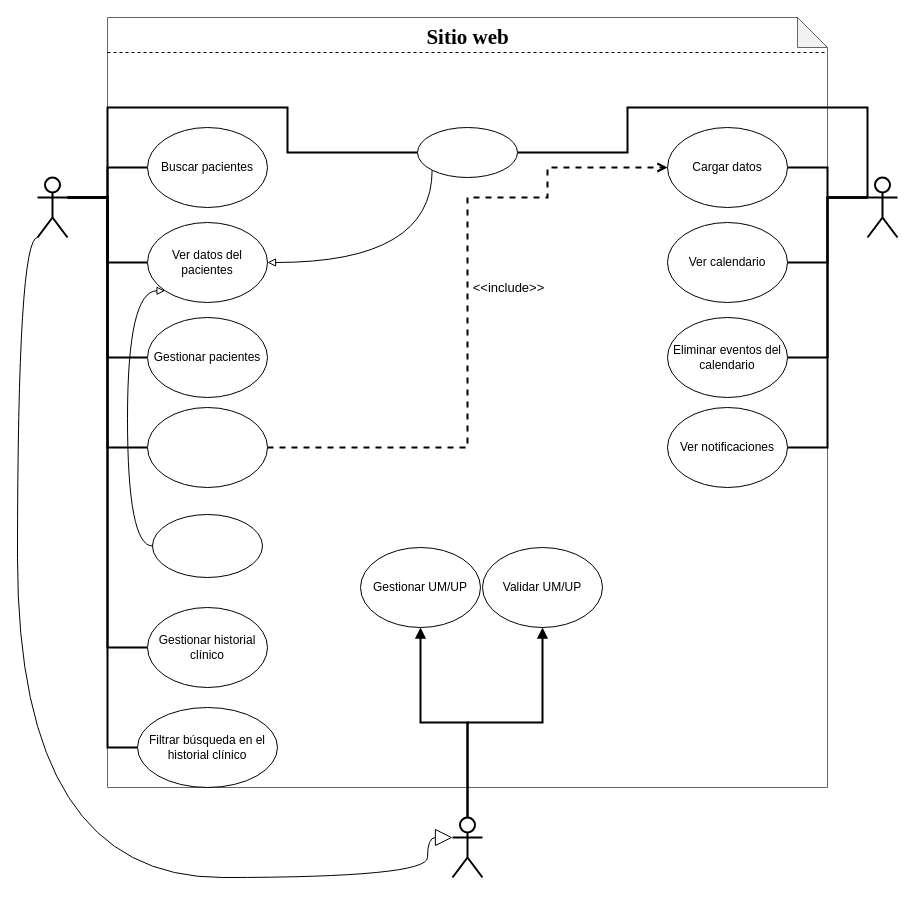
Some shapes in this 916 by 916 pixel diagram are drawn without their labels. Here are the shapes that lost their labels. From the top down, the centre of each, then its label:
point 467,152: Ver perfil
point 52,207: UM
point 882,207: UP
point 207,447: Verificar datos del pacientes
point 207,546: Ver historial clínico
point 467,847: Sistema
